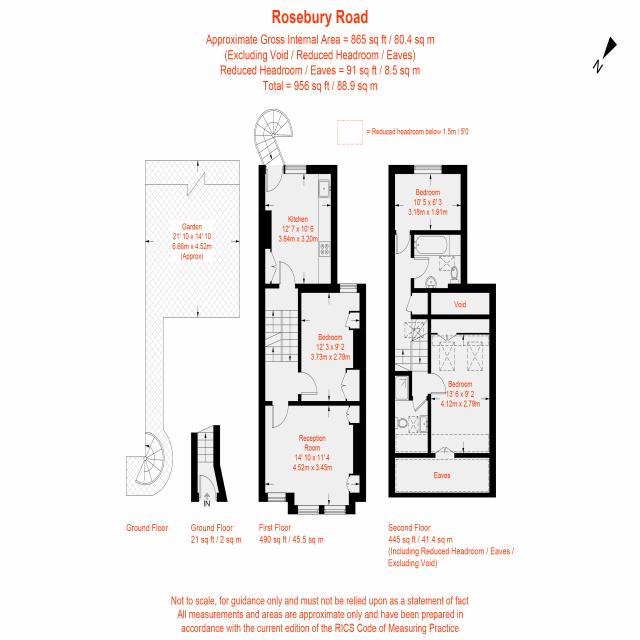DOOR: (297, 371, 318, 396), (265, 165, 284, 192), (271, 401, 289, 429), (278, 261, 296, 289), (410, 256, 430, 279), (428, 372, 447, 395), (396, 230, 410, 255), (412, 396, 427, 413)
ROOM: (258, 401, 366, 515), (259, 165, 337, 293), (428, 314, 496, 458), (298, 283, 366, 406), (388, 164, 468, 255)
WINDOW: (414, 165, 442, 174), (297, 504, 319, 515), (324, 504, 346, 515), (285, 165, 307, 174), (267, 492, 286, 502), (339, 283, 358, 293)
